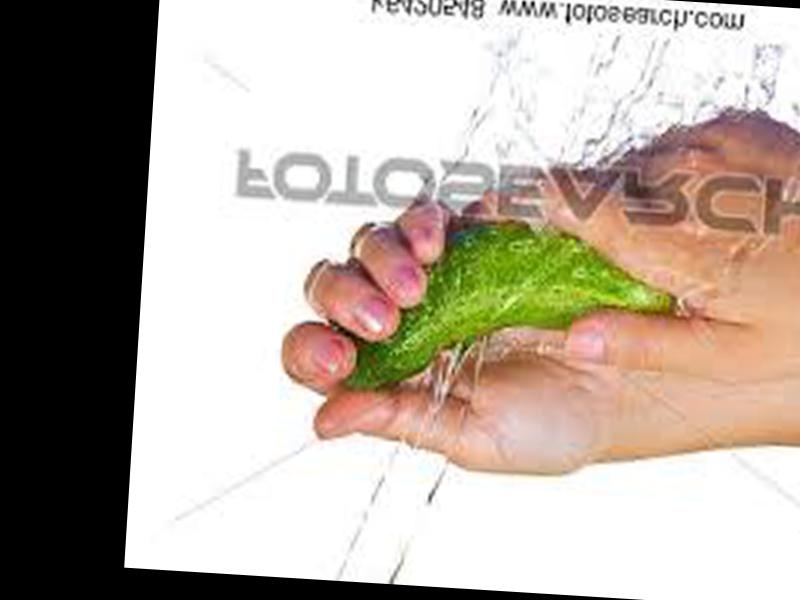Cucumber: (339, 205, 689, 410)
